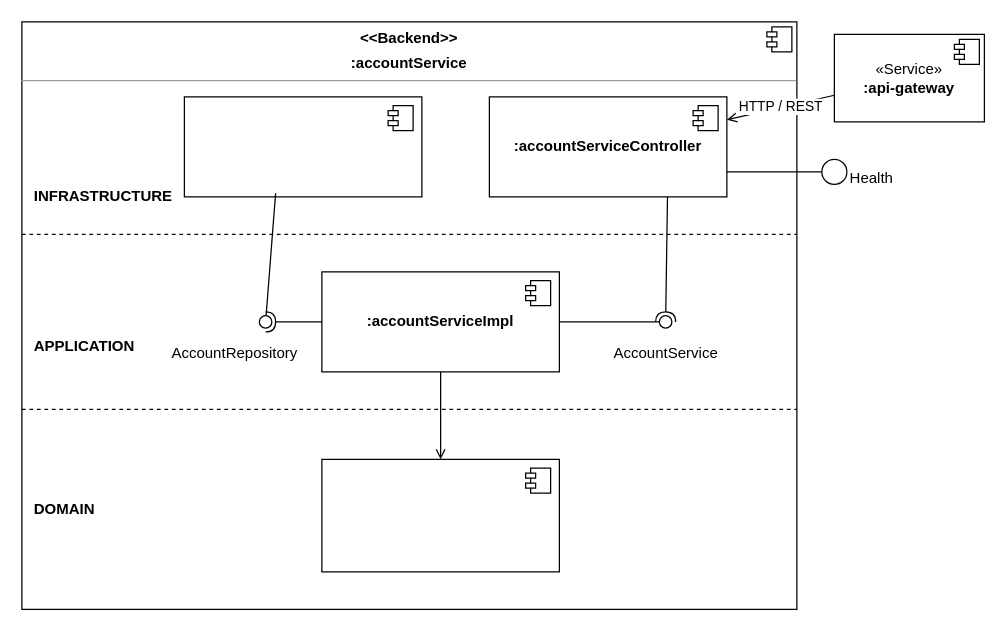
The diagram is 1006 pixels wide and 631 high, and some of its shapes have lost their labels. The box of each missing label's shape, as (x1, y1, x2, y2) in pixels:
:account: (321, 458, 559, 572)
«Adapter» :fileBasedAccountRepository: (183, 96, 422, 197)
